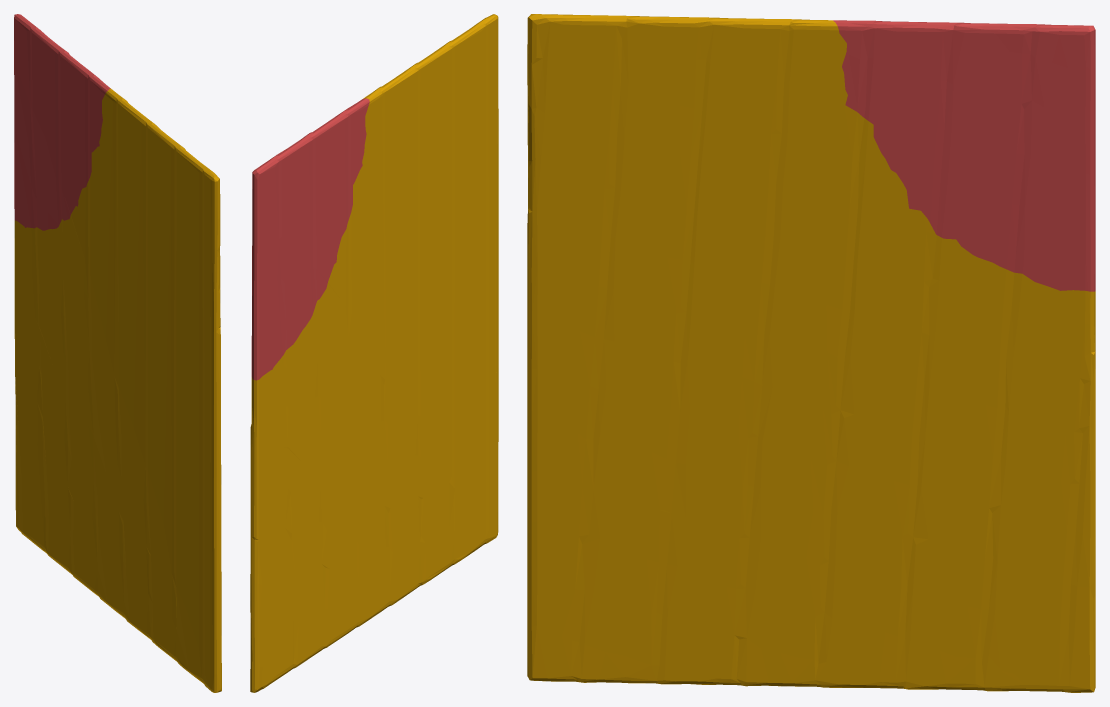
File: fractured_41_2pcs.glb
3 renders of one model, left to right at view 1: azimuth 30°, elevation 25°; view 2: azimuth 150°, elevation 25°; view 3: azimuth 270°, elevation 25°, orthographic. The views are drawn at different scales.
Parts seen in each view (by area): view 1: piece_0.obj, piece_1.obj; view 2: piece_0.obj, piece_1.obj; view 3: piece_0.obj, piece_1.obj.
Boxes of the visible parts, x1,y1,x2,y2 form: piece_0.obj: [14, 88, 221, 692]; piece_1.obj: [14, 14, 110, 230]; piece_0.obj: [250, 14, 498, 692]; piece_1.obj: [251, 98, 369, 380]; piece_0.obj: [527, 14, 1095, 692]; piece_1.obj: [833, 20, 1095, 291].
Size of the model in its own units: 0.0563 by 1 by 0.7737.
